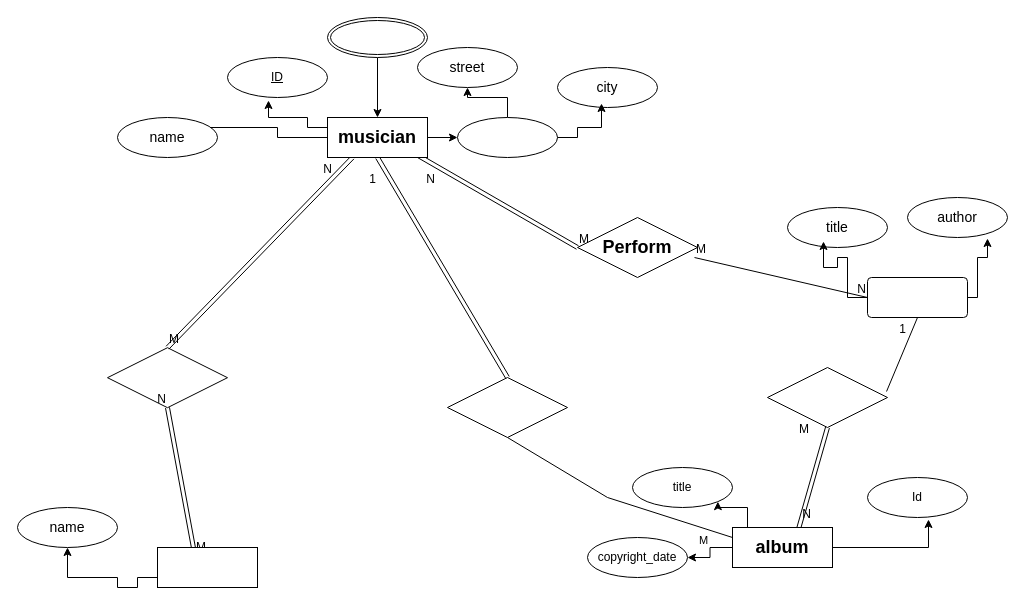
This 1025x613 diagram has some shape labels left out. Here are the shapes that lost their labels. From the top down, the centre of each, then its label:
pixel 377 37: PhoneNum
pixel 507 137: address
pixel 917 297: song
pixel 167 377: Plays
pixel 827 397: Has
pixel 507 407: Produces
pixel 207 567: instrument
